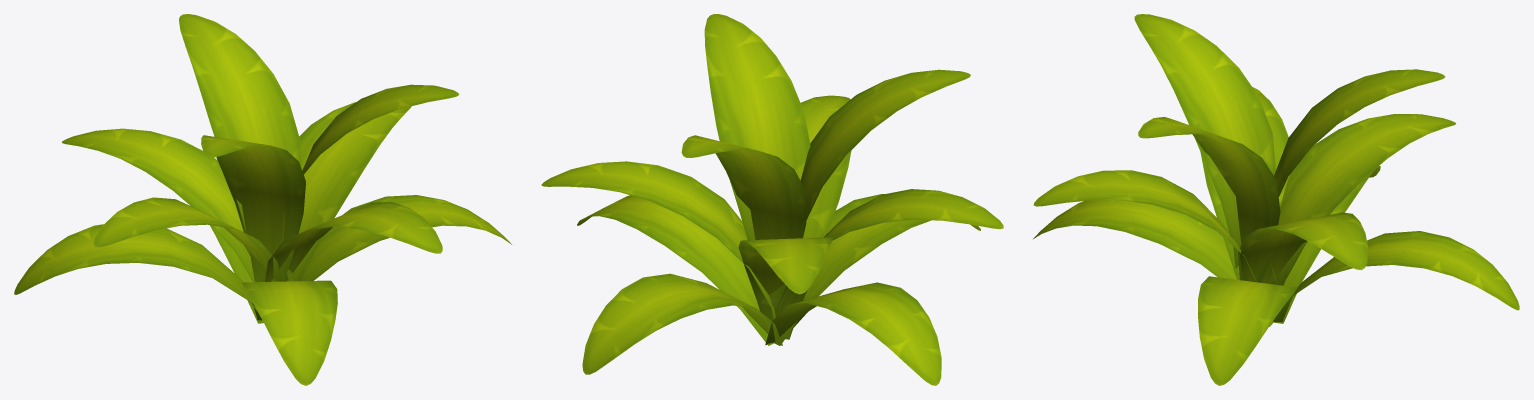
Rendered from BushPalm_01.FBX.
3 views of the same model, side by side, from view 1: azimuth 30°, elevation 25°; view 2: azimuth 150°, elevation 25°; view 3: azimuth 270°, elevation 25° (orthographic).
Parts seen in each view (by area): view 1: BushPalm_01; view 2: BushPalm_01; view 3: BushPalm_01.
Part boxes in pixels (x1,y1,x2,y2): BushPalm_01: (14, 14, 511, 385); BushPalm_01: (541, 14, 1003, 385); BushPalm_01: (1033, 14, 1519, 385).
Bounding box in the file's own units: 293 × 161 × 289.
